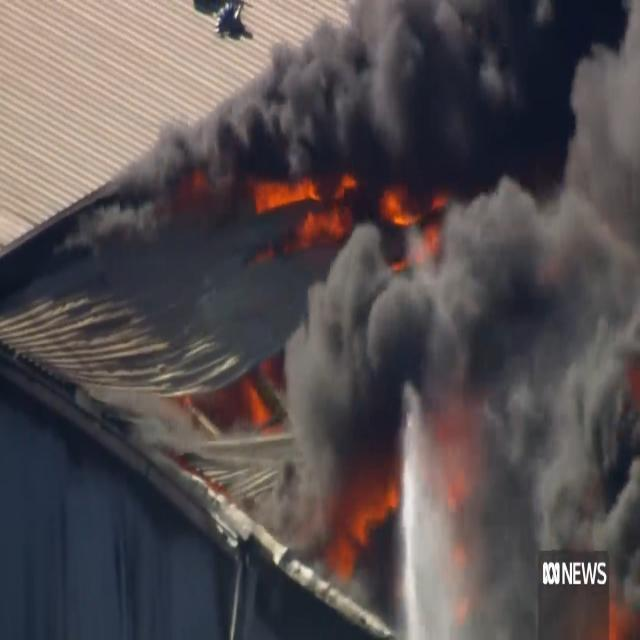fire: (252, 178, 322, 208), (244, 367, 286, 414), (382, 194, 420, 236), (358, 504, 397, 534)
